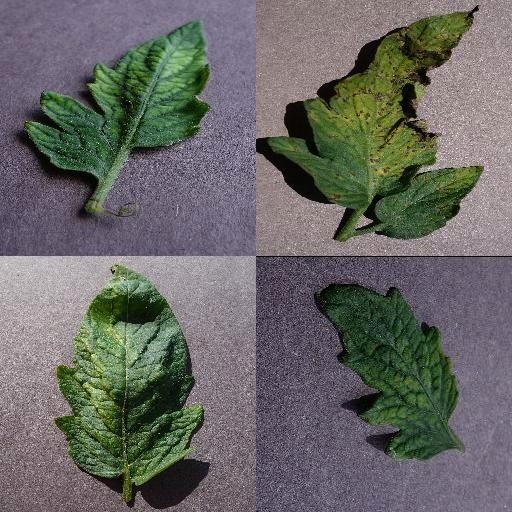Mosaic Virus: (26, 16, 212, 176), (316, 283, 460, 461)
Septoria: (267, 5, 485, 209)
Spider Mites: (55, 263, 203, 485)
